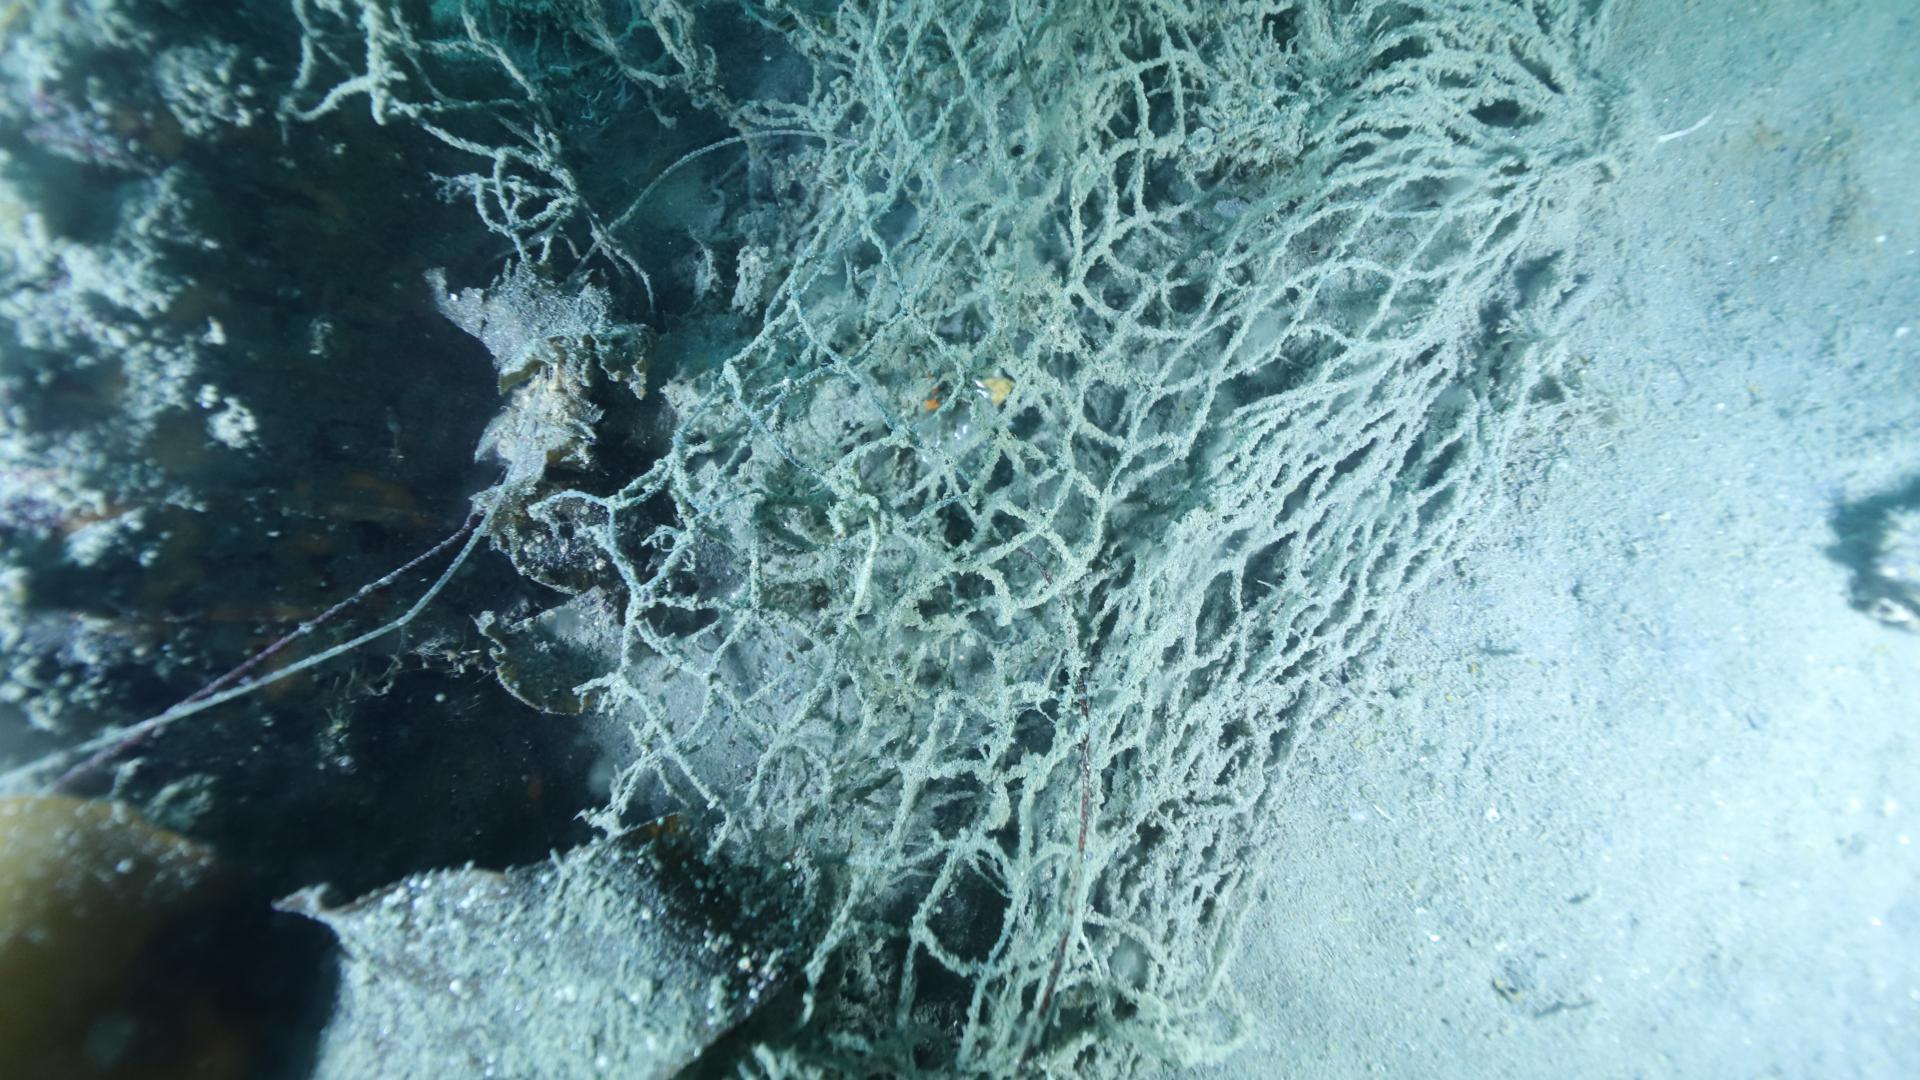fish net: (603, 0, 1544, 1080)
